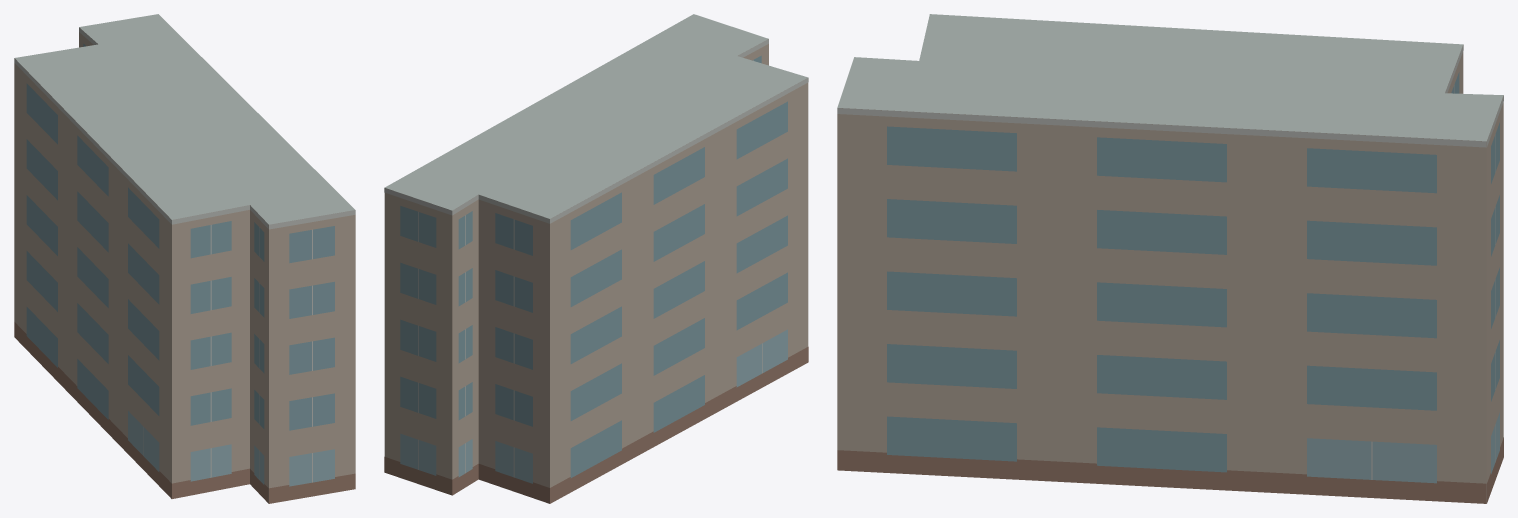
The model's file is survey-upis-33018818.glb.
3 renders of one model, left to right at view 1: azimuth 30°, elevation 25°; view 2: azimuth 150°, elevation 25°; view 3: azimuth 270°, elevation 25°, orthographic. The views are drawn at different scales.
Parts seen in each view (by area): view 1: survey-upis-33018818.tmp; view 2: survey-upis-33018818.tmp; view 3: survey-upis-33018818.tmp.
Part boxes in pixels (x1,y1,x2,y2): survey-upis-33018818.tmp: (14,14,355,503); survey-upis-33018818.tmp: (384,14,808,503); survey-upis-33018818.tmp: (837,14,1503,503).
Bounding box in the file's own units: 10.78 × 14.3 × 23.83.
